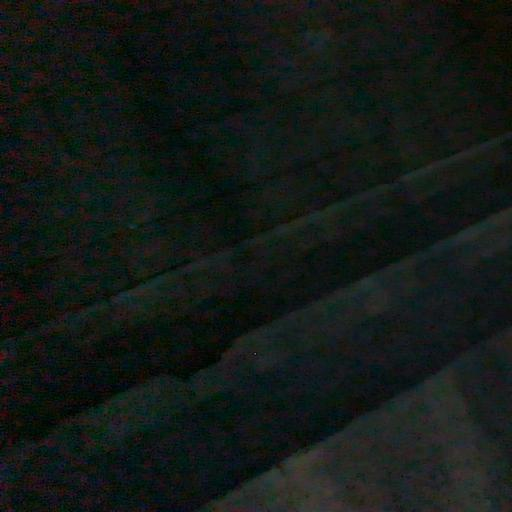stairs: (0, 134, 511, 511), (0, 134, 511, 442), (200, 330, 511, 511)
